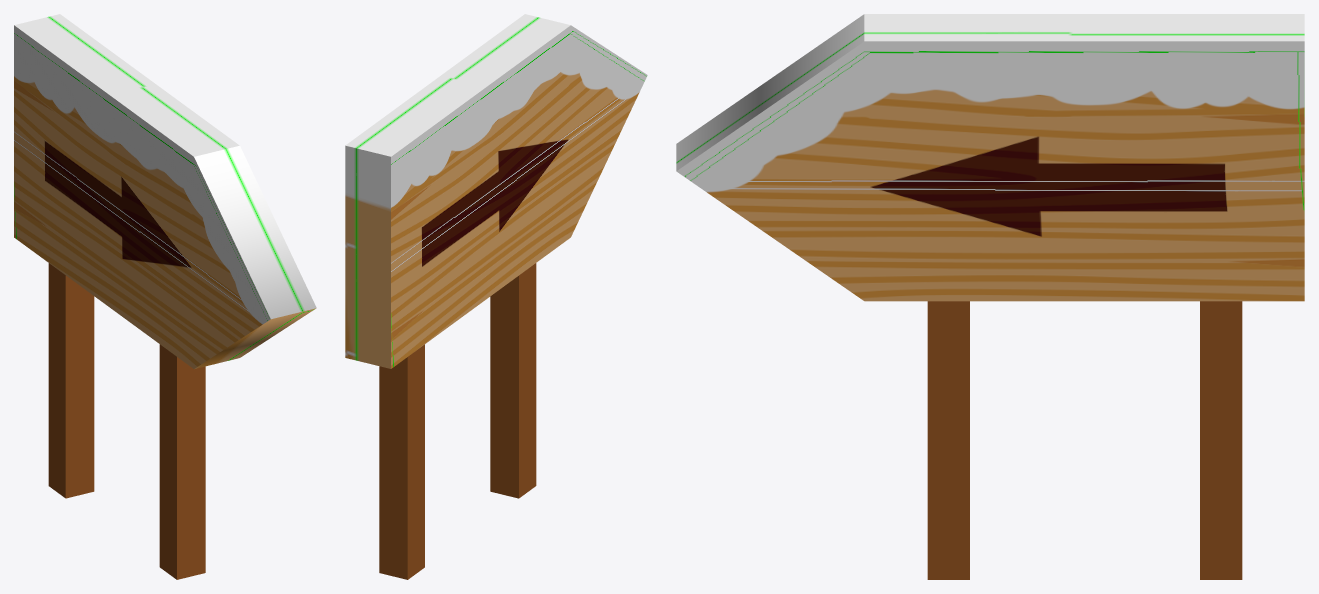
File: señalT.FBX
3 views of the same model, side by side, from view 1: azimuth 30°, elevation 25°; view 2: azimuth 150°, elevation 25°; view 3: azimuth 270°, elevation 25° (orthographic). The views are drawn at different scales.
Visible parts, largest first — view 1: Box004, Box002; view 2: Box004, Box002; view 3: Box004, Box002.
Part boxes in pixels (x1=…): Box004: x1=14, y1=14, x2=316, y2=368; Box002: x1=48, y1=263, x2=205, y2=579; Box004: x1=345, y1=14, x2=647, y2=368; Box002: x1=379, y1=263, x2=536, y2=579; Box004: x1=676, y1=14, x2=1304, y2=301; Box002: x1=927, y1=301, x2=1242, y2=579.
Bounding box in the file's own units: 0.1805 × 1.67 × 1.75.
Materials: 2 (1 with a texture image).
